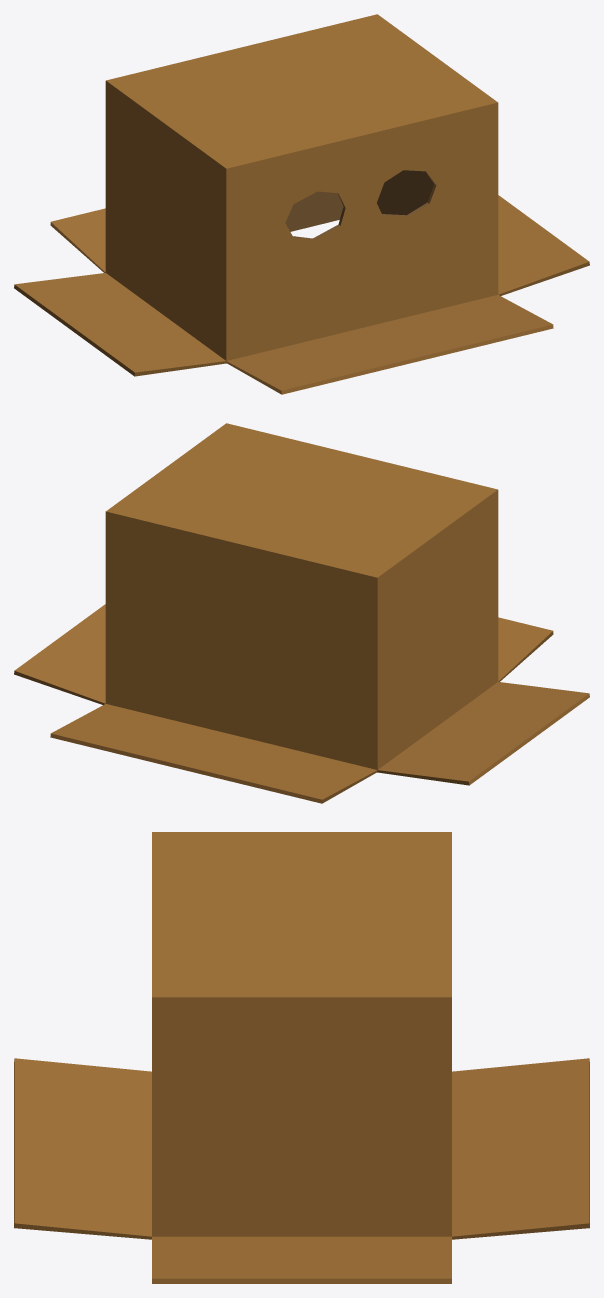
Rendered from hide_box_0412.fbx.
The picture shows the model from 3 angles, top to bottom: view 1: azimuth 30°, elevation 25°; view 2: azimuth 150°, elevation 25°; view 3: azimuth 270°, elevation 25°; orthographic projection. The views are drawn at different scales.
Parts seen in each view (by area): view 1: Box003; view 2: Box003; view 3: Box003.
Boxes of the visible parts, x1,y1,x2,y2 form: Box003: [14, 14, 589, 394]; Box003: [14, 423, 589, 803]; Box003: [14, 832, 589, 1283].
Bounding box in the file's own units: 92.44 × 37.94 × 81.33.
Materials: 1 (1 with a texture image).
